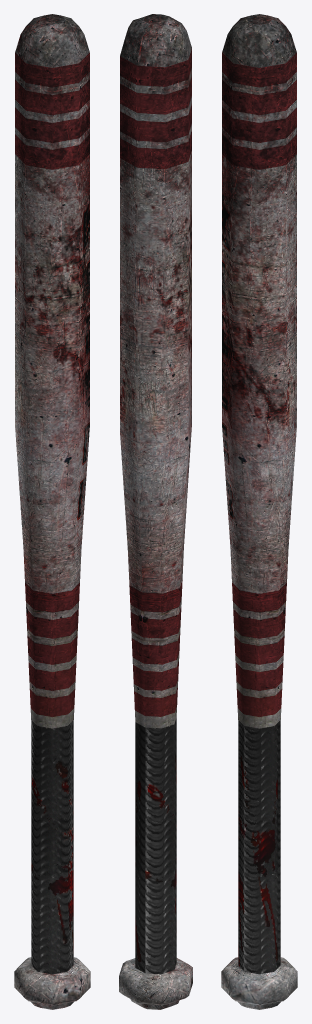
The model's file is BaseballBat_Killer_Metal(Blood).fbx.
3 views of the same model, side by side, from view 1: azimuth 90°, elevation 25°; view 2: azimuth 150°, elevation 25°; view 3: azimuth 270°, elevation 25° (orthographic).
Parts seen in each view (by area): view 1: BaseballBat_Killer_Metal(Blood); view 2: BaseballBat_Killer_Metal(Blood); view 3: BaseballBat_Killer_Metal(Blood).
Part boxes in pixels (x1,y1,x2,y2): BaseballBat_Killer_Metal(Blood): (14,14,90,1009); BaseballBat_Killer_Metal(Blood): (119,14,192,1009); BaseballBat_Killer_Metal(Blood): (221,14,297,1009).
Size of the model in its own units: 5.92 by 84.03 by 5.92.
